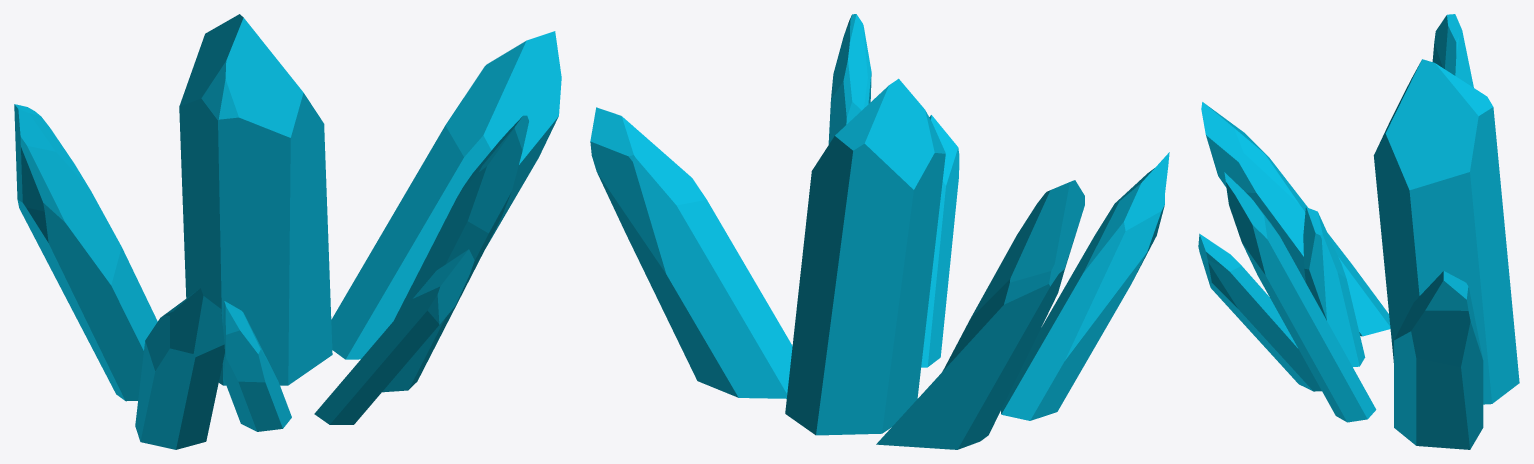
The model's file is ice wall.fbx.
3 renders of one model, left to right at view 1: azimuth 30°, elevation 25°; view 2: azimuth 150°, elevation 25°; view 3: azimuth 270°, elevation 25°, orthographic. The views are drawn at different scales.
Parts seen in each view (by area): view 1: ice wall; view 2: ice wall; view 3: ice wall.
Part boxes in pixels (x1,y1,x2,y2): ice wall: [14, 14, 561, 449]; ice wall: [590, 14, 1169, 449]; ice wall: [1198, 14, 1519, 449].
Size of the model in its own units: 500 by 322 by 303.
